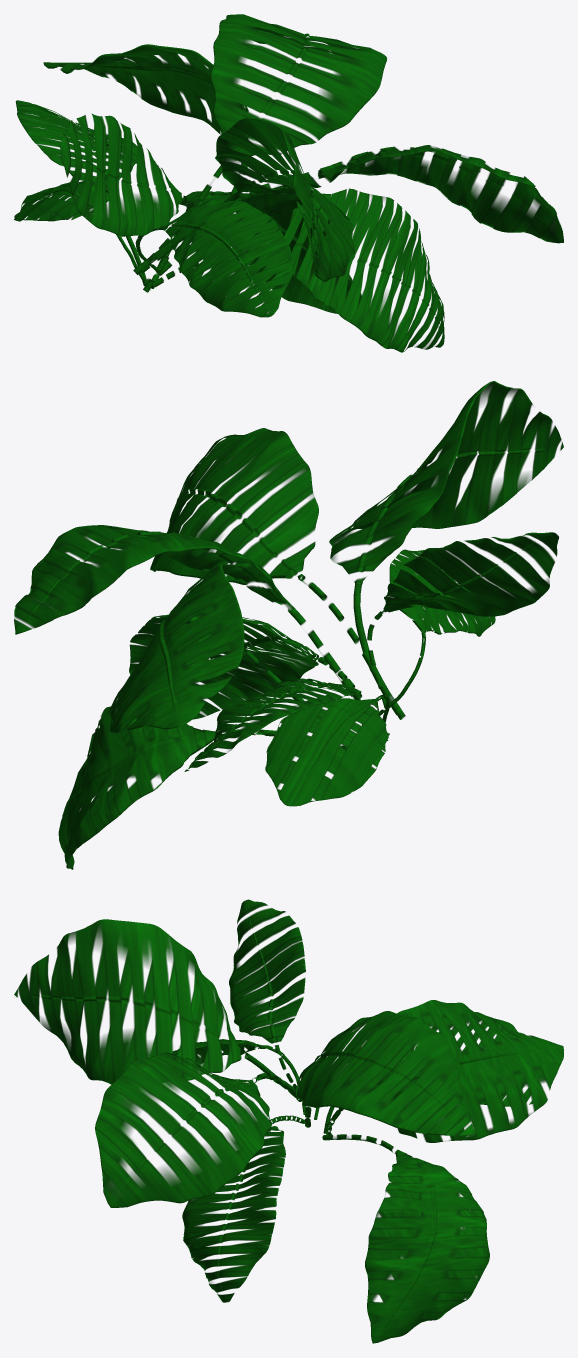
File: dmtreeleaves4.glb
The picture shows the model from 3 angles, top to bottom: view 1: azimuth 30°, elevation 25°; view 2: azimuth 150°, elevation 25°; view 3: azimuth 270°, elevation 25°; orthographic projection. The views are drawn at different scales.
Parts seen in each view (by area): view 1: leaf_004_mesh.007, leaf_001_mesh.007, leaf_007_mesh.005, leaf_005_mesh.007, leaf_008_mesh.007, leaf_003_mesh.008, leaf_010_mesh.007, leaf_009_mesh.007, leaf_002_mesh.007, leaf_006_mesh.007; view 2: leaf_003_mesh.008, leaf_005_mesh.007, leaf_010_mesh.007, leaf_004_mesh.007, leaf_008_mesh.007, leaf_009_mesh.007, leaf_006_mesh.007, leaf_001_mesh.007, leaf_002_mesh.007, leaf_007_mesh.005; view 3: leaf_003_mesh.008, leaf_005_mesh.007, leaf_009_mesh.007, leaf_004_mesh.007, leaf_010_mesh.007, leaf_001_mesh.007, leaf_008_mesh.007, leaf_002_mesh.007, leaf_007_mesh.005.
Boxes of the visible parts, <box> form: leaf_004_mesh.007: <box>143,14,386,292</box>; leaf_001_mesh.007: <box>146,188,444,352</box>; leaf_007_mesh.005: <box>135,200,292,317</box>; leaf_005_mesh.007: <box>141,145,563,272</box>; leaf_008_mesh.007: <box>59,113,190,260</box>; leaf_003_mesh.008: <box>133,117,354,281</box>; leaf_010_mesh.007: <box>43,44,248,281</box>; leaf_009_mesh.007: <box>151,185,361,313</box>; leaf_002_mesh.007: <box>15,100,147,286</box>; leaf_006_mesh.007: <box>14,175,145,280</box>; leaf_003_mesh.008: <box>329,381,563,719</box>; leaf_005_mesh.007: <box>150,428,396,715</box>; leaf_010_mesh.007: <box>109,564,321,733</box>; leaf_004_mesh.007: <box>14,525,387,740</box>; leaf_008_mesh.007: <box>367,532,558,708</box>; leaf_009_mesh.007: <box>58,705,347,869</box>; leaf_006_mesh.007: <box>265,694,389,806</box>; leaf_001_mesh.007: <box>129,614,389,735</box>; leaf_002_mesh.007: <box>184,678,365,771</box>; leaf_007_mesh.005: <box>379,549,495,715</box>; leaf_003_mesh.008: <box>14,919,302,1101</box>; leaf_005_mesh.007: <box>95,1052,302,1207</box>; leaf_009_mesh.007: <box>322,1134,489,1343</box>; leaf_004_mesh.007: <box>295,1011,476,1136</box>; leaf_010_mesh.007: <box>325,1000,563,1142</box>; leaf_001_mesh.007: <box>182,1115,304,1302</box>; leaf_008_mesh.007: <box>229,899,305,1089</box>; leaf_002_mesh.007: <box>323,1012,532,1133</box>; leaf_007_mesh.005: <box>172,1039,306,1114</box>.
Size of the model in its own units: 0.6541 by 0.5297 by 0.8229.
1 material, 1 textured.
